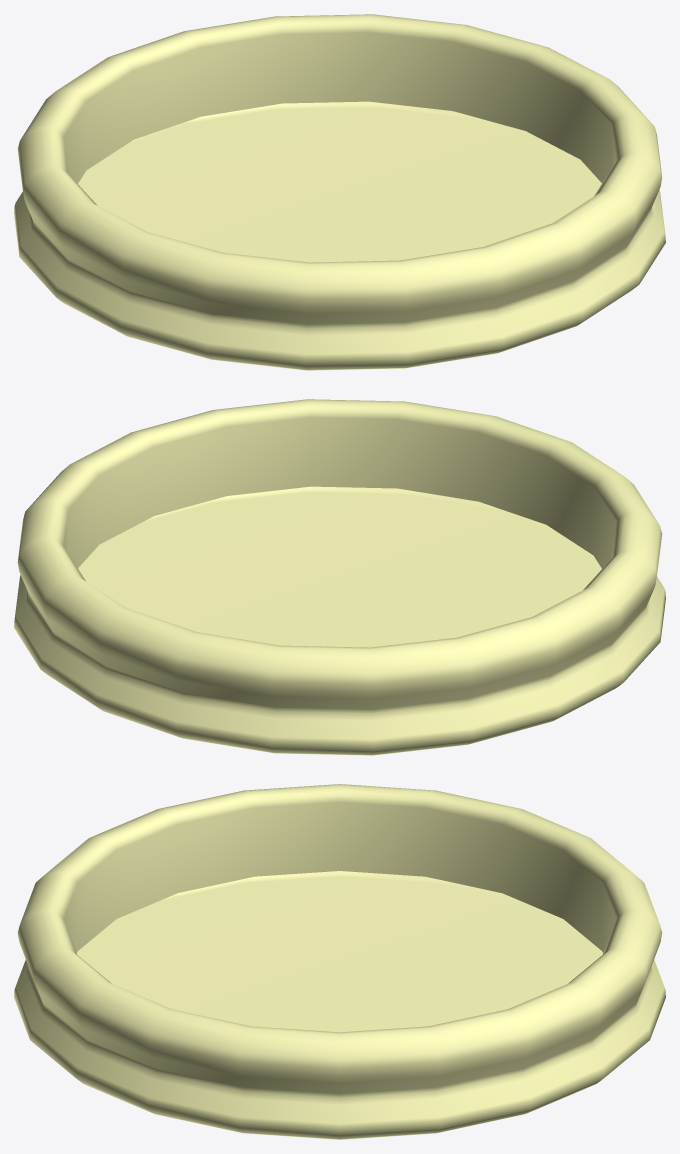
3 views of the same model, one above another, from view 1: azimuth 30°, elevation 25°; view 2: azimuth 150°, elevation 25°; view 3: azimuth 270°, elevation 25° (orthographic).
Visible parts, largest first — view 1: Fountain_4; view 2: Fountain_4; view 3: Fountain_4.
Boxes of the visible parts, x1,y1,x2,y2 form: Fountain_4: (14,14,665,370); Fountain_4: (14,399,665,755); Fountain_4: (14,784,665,1139).
Size of the model in its own units: 202 by 33.46 by 202.
